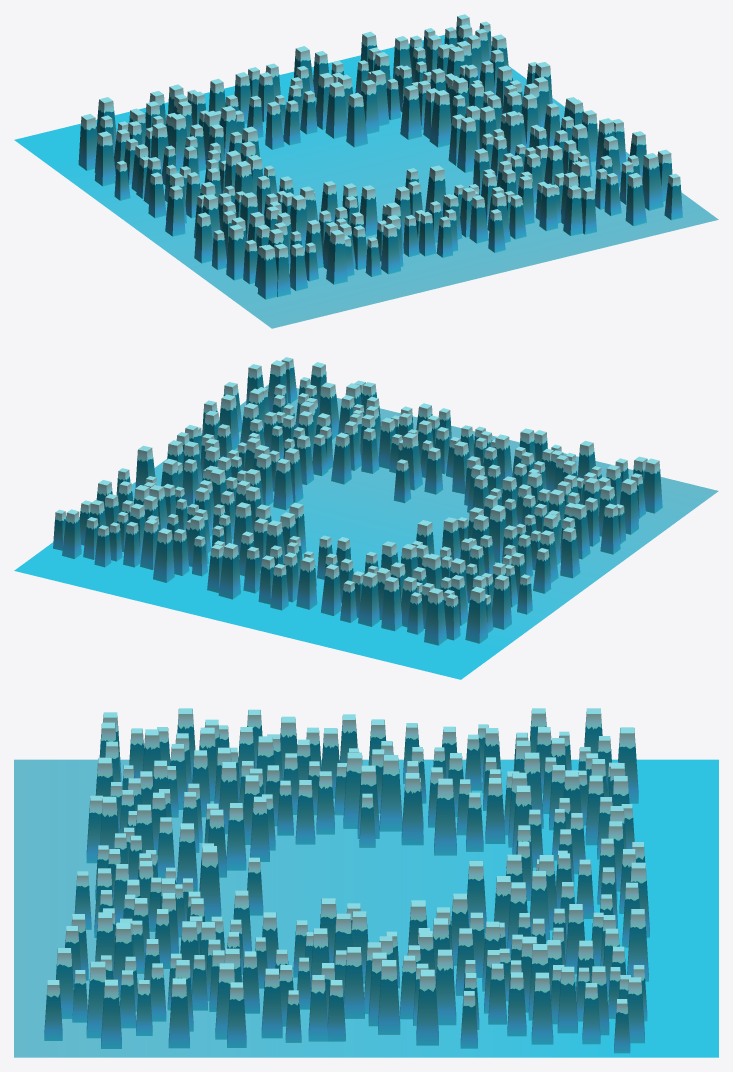
File: Mountains_mesh_and_plane.fbx
3 views of the same model, one above another, from view 1: azimuth 30°, elevation 25°; view 2: azimuth 150°, elevation 25°; view 3: azimuth 270°, elevation 25° (orthographic). The views are drawn at different scales.
Parts seen in each view (by area): view 1: pPlane3; view 2: pPlane3; view 3: pPlane3.
Part boxes in pixels (x1=…): pPlane3: x1=14, y1=14, x2=718, y2=328; pPlane3: x1=14, y1=357, x2=718, y2=679; pPlane3: x1=14, y1=708, x2=718, y2=1057.
Bounding box in the file's own units: 308 × 33.28 × 308.
1 material, 1 textured.
